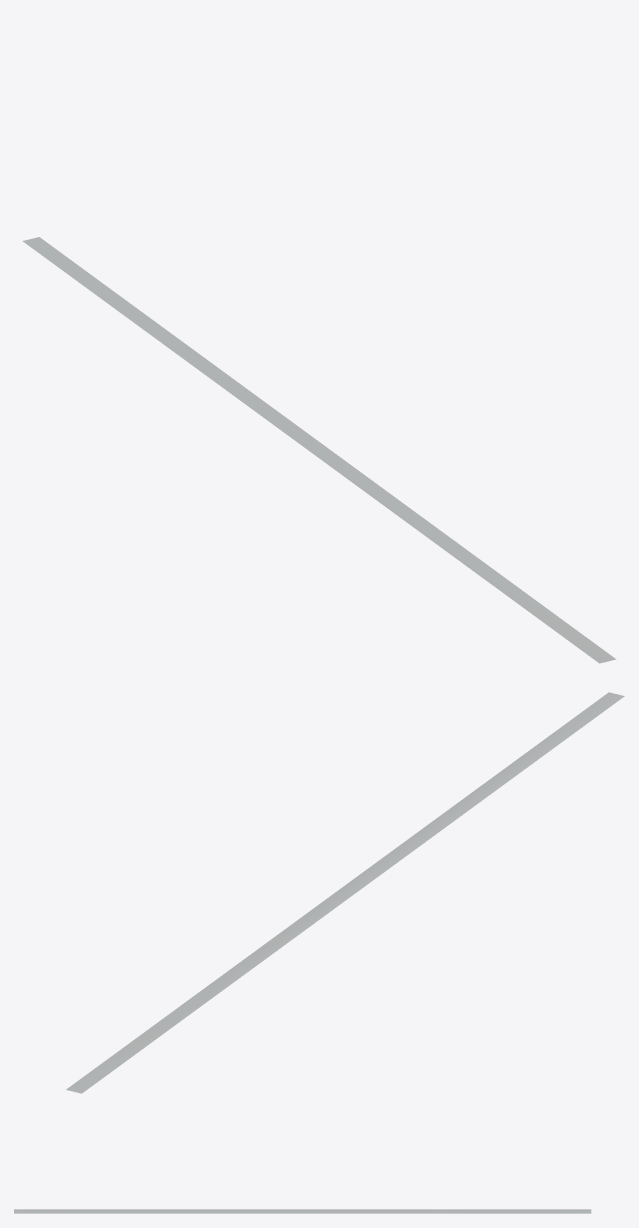
The model's file is FridgebodymeshFridgeD5_0_GeomSubset_2.obj.
3 renders of one model, top to bottom at view 1: azimuth 30°, elevation 25°; view 2: azimuth 150°, elevation 25°; view 3: azimuth 270°, elevation 25°, orthographic. The views are drawn at different scales.
Visible parts, largest first — view 1: FridgebodymeshFridgeD5_0_GeomSubset_2; view 2: FridgebodymeshFridgeD5_0_GeomSubset_2; view 3: FridgebodymeshFridgeD5_0_GeomSubset_2.
Part boxes in pixels (x1,y1,x2,y2): FridgebodymeshFridgeD5_0_GeomSubset_2: [22, 237, 616, 663]; FridgebodymeshFridgeD5_0_GeomSubset_2: [66, 692, 624, 1093]; FridgebodymeshFridgeD5_0_GeomSubset_2: [14, 1209, 591, 1213].
Bounding box in the file's own units: 0.0628 × 0.3018 × 1.74.
